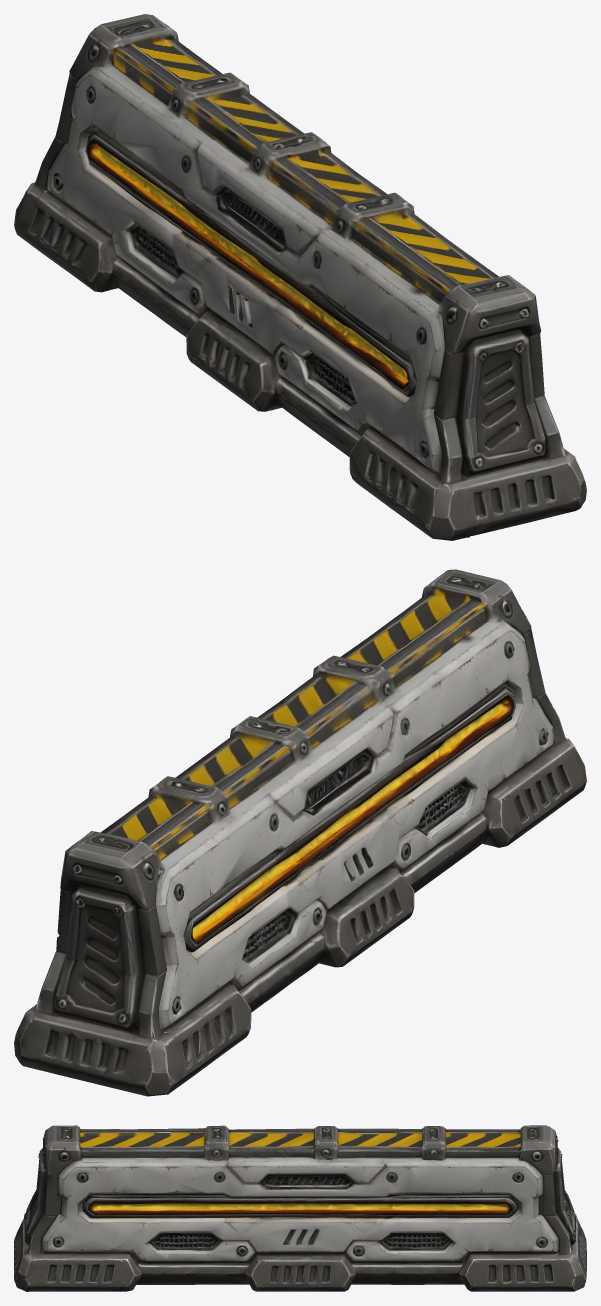
File: barrier.glb
The picture shows the model from 3 angles, top to bottom: view 1: azimuth 30°, elevation 25°; view 2: azimuth 150°, elevation 25°; view 3: azimuth 270°, elevation 25°; orthographic projection. The views are drawn at different scales.
Parts seen in each view (by area): view 1: tripo_node_4c60a58e-6751-497d-9133-d639359fb223; view 2: tripo_node_4c60a58e-6751-497d-9133-d639359fb223; view 3: tripo_node_4c60a58e-6751-497d-9133-d639359fb223.
Part boxes in pixels (bbox=[...]): tripo_node_4c60a58e-6751-497d-9133-d639359fb223: bbox=[14, 14, 586, 540]; tripo_node_4c60a58e-6751-497d-9133-d639359fb223: bbox=[14, 569, 586, 1096]; tripo_node_4c60a58e-6751-497d-9133-d639359fb223: bbox=[14, 1125, 586, 1291].
Size of the model in its own units: 0.2095 by 0.2635 by 0.9794.
1 material, 1 textured.
